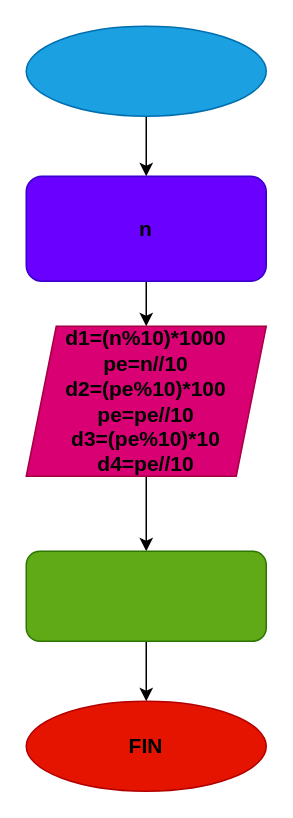
The diagram is 293 pixels wide and 818 high, and some of its shapes have lost their labels. The centre of each missing label's shape, as x and y in pixels:
INICIO: point (145, 70)
ni: point (145, 595)
